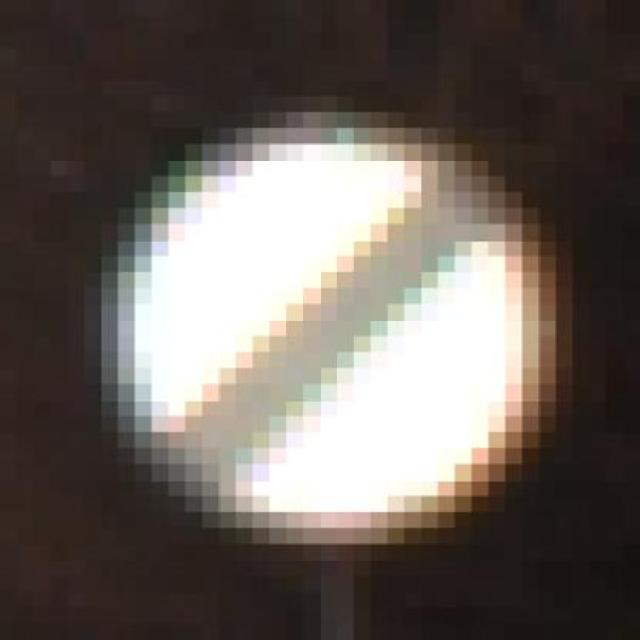End of all speed and passing limits: (91, 88, 563, 552)
